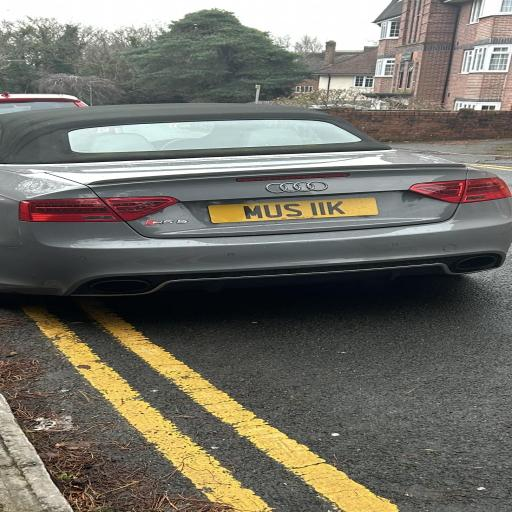numberplates: (209, 198, 378, 223)
